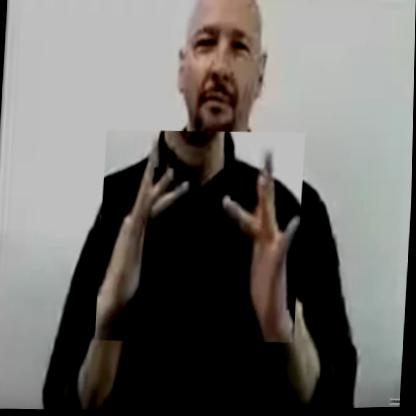Internet: (96, 128, 306, 347)
